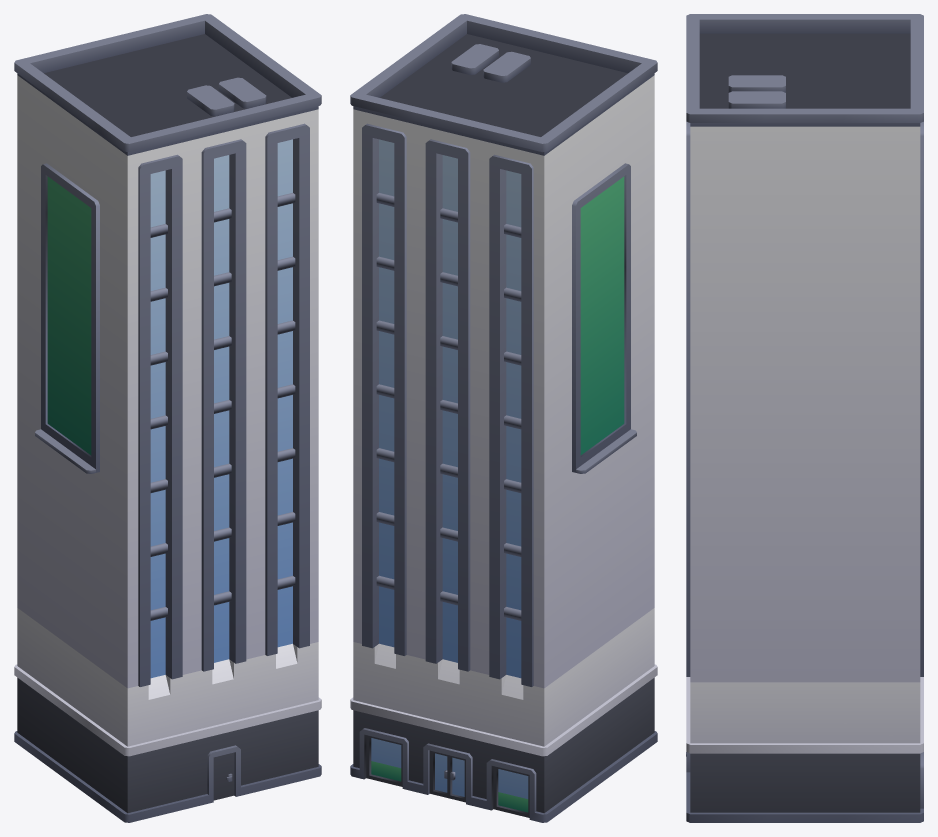
Rendered from Building08.glb.
3 renders of one model, left to right at view 1: azimuth 30°, elevation 25°; view 2: azimuth 150°, elevation 25°; view 3: azimuth 270°, elevation 25°, orthographic. The views are drawn at different scales.
Visible parts, largest first — view 1: building-skyscraper-e; view 2: building-skyscraper-e; view 3: building-skyscraper-e.
Part boxes in pixels (x1,y1,x2,y2): building-skyscraper-e: (14, 14, 321, 822); building-skyscraper-e: (350, 14, 657, 822); building-skyscraper-e: (686, 14, 923, 822).
Bounding box in the file's own units: 1.29 × 4.08 × 1.24.
1 material, 1 textured.
